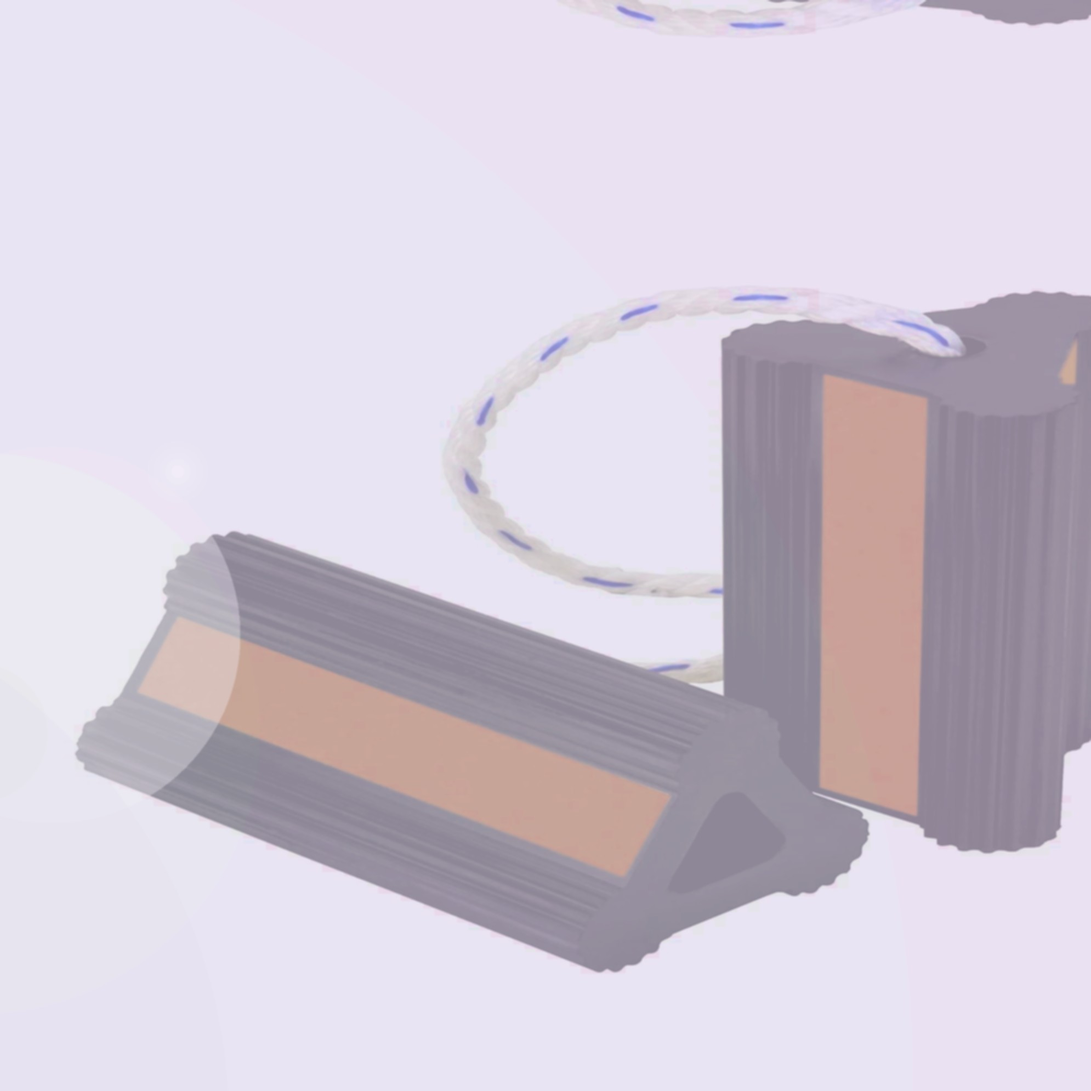chock: (69, 515, 869, 983), (714, 282, 1091, 857)
